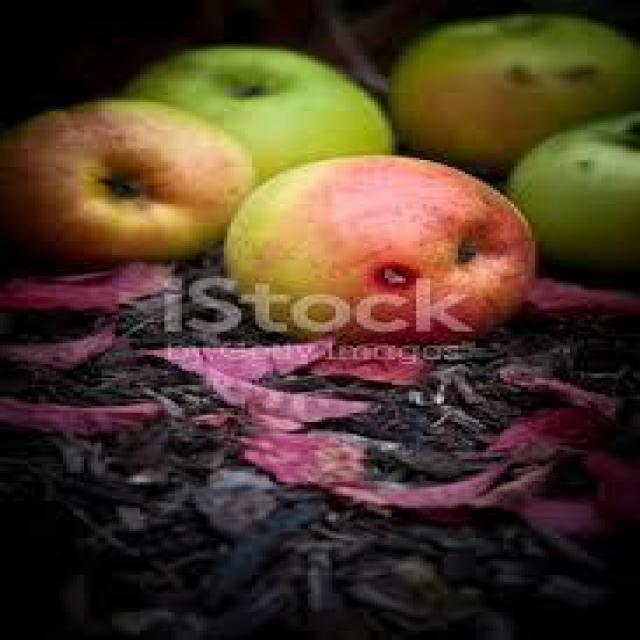maca: (220, 153, 535, 346), (0, 97, 255, 261), (384, 12, 636, 174), (119, 42, 395, 181)
